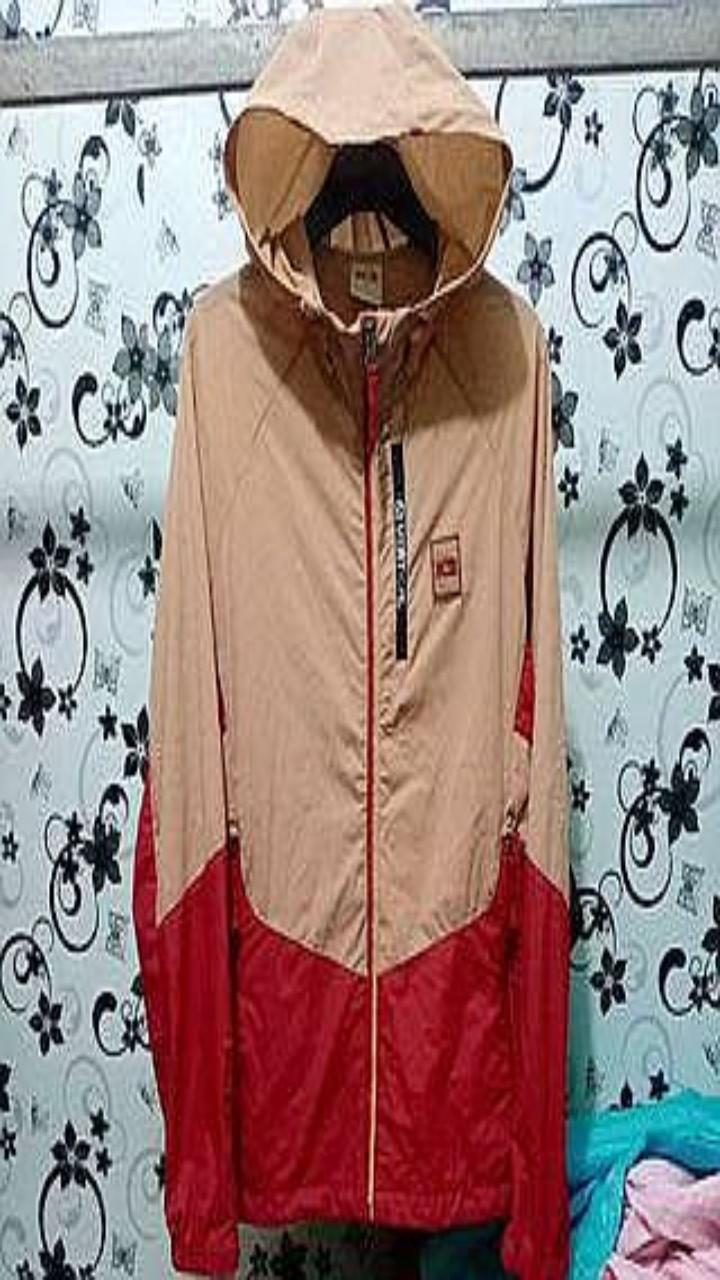Sports_Jacket: (132, 3, 568, 1279)
